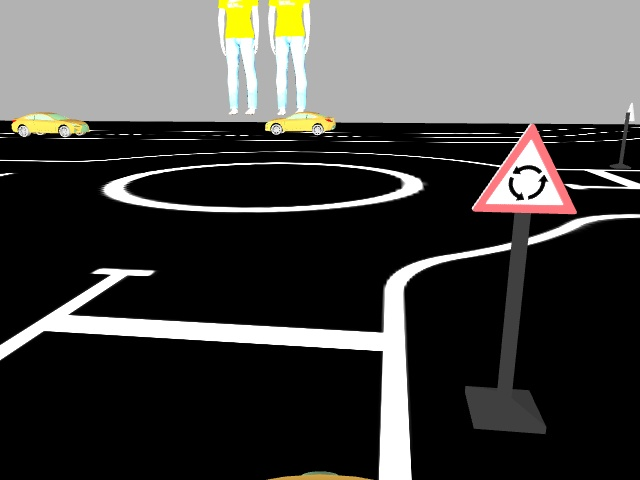Roundabout: (470, 119, 578, 215)
